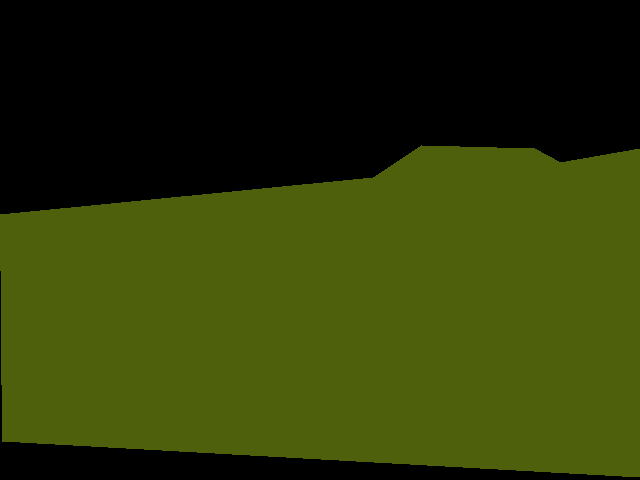Train: (0, 145, 640, 478)
